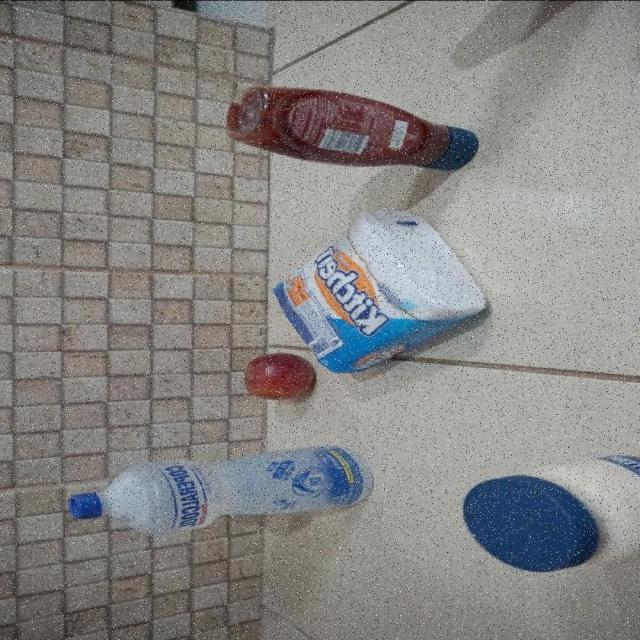AlcoholBottle: (65, 444, 376, 536)
Apple: (243, 353, 316, 400)
Ketchup: (225, 85, 480, 171)
Mayonnaise: (460, 446, 640, 574)
Napkin: (271, 207, 492, 373)
